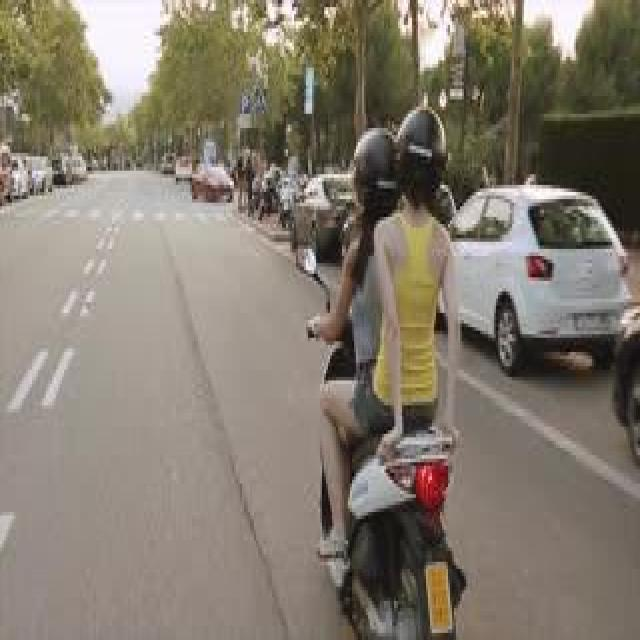Helmet: (398, 100, 448, 206), (350, 128, 396, 213)
